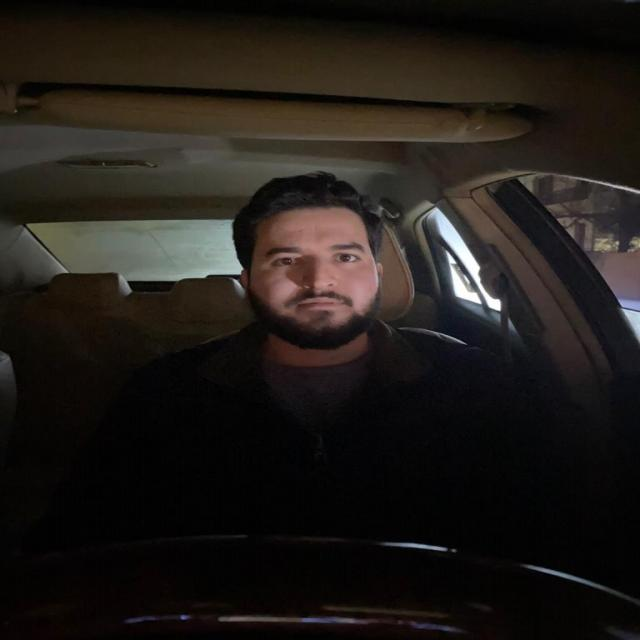person: (225, 170, 404, 351)
